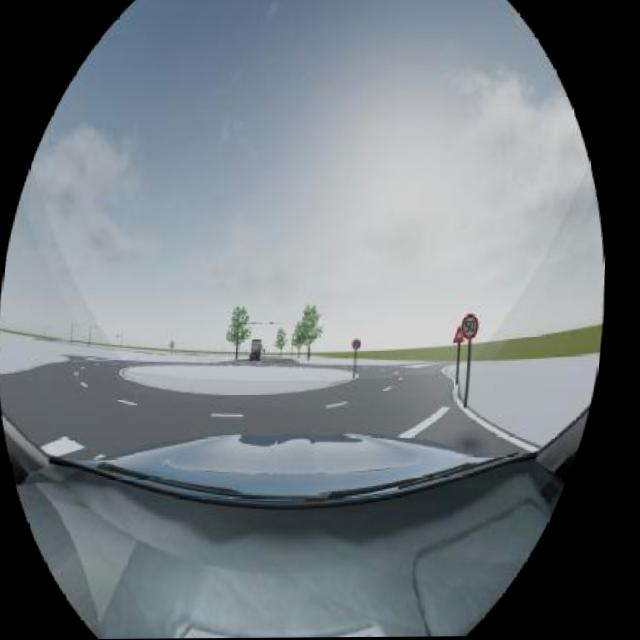Speed limit 50: (462, 312, 486, 341)
